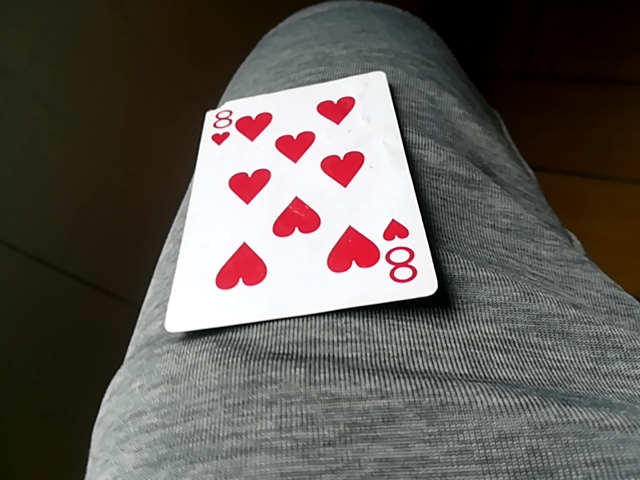hx 8: (163, 71, 441, 337)
